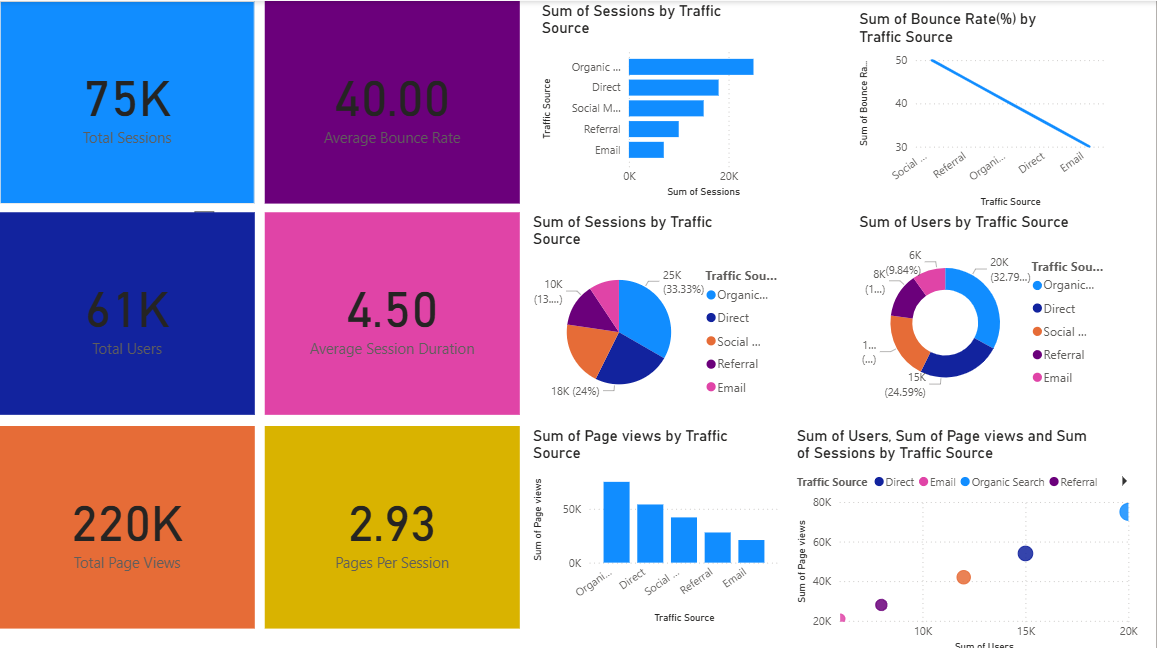

The page's visual inventory and layout, read from the dashboard file:
{"tool":"powerbi","page":{"name":"Page 1","canvas":[1280,720],"ordinal":0},"visuals":[{"type":"card","fields":{"Values":["Sheet1.Total Sessions"]},"box":[9.6,0,279.9,222.3],"z":0},{"type":"card","fields":{"Values":["Sheet1.Total Users"]},"box":[9.6,231.9,279.9,222.3],"z":1000},{"type":"card","fields":{"Values":["Sheet1.Total Page Views"]},"box":[10,466,280,222],"z":2000},{"type":"card","fields":{"Values":["Sheet1.Average Bounce Rate"]},"box":[300,0,280,222],"z":3000},{"type":"card","fields":{"Values":["Sheet1.Average Session Duration"]},"box":[300,232,280,222],"z":4000},{"type":"card","fields":{"Values":["Sheet1.Pages Per Session"]},"box":[300,466,280,222],"z":5000},{"type":"pieChart","fields":{"Category":["Sheet1.Traffic Source"],"Y":["Sum(Sheet1.Sessions)"]},"box":[590,232,280,222],"z":6000},{"type":"clusteredBarChart","fields":{"Category":["Sheet1.Traffic Source"],"Y":["Sum(Sheet1.Sessions)"]},"box":[599.7,0,279.9,220.9],"z":7000},{"type":"columnChart","fields":{"Category":["Sheet1.Traffic Source"],"Y":["Sum(Sheet1.Page views)"]},"box":[590,466,280,222],"z":8000},{"type":"lineChart","fields":{"Category":["Sheet1.Traffic Source"],"Y":["Sum(Sheet1.Bounce Rate(%))"]},"box":[948.2,9.6,279.9,222.3],"z":9000},{"type":"donutChart","fields":{"Category":["Sheet1.Traffic Source"],"Y":["Sum(Sheet1.Users)"]},"box":[948,232,280,222],"z":10000},{"type":"scatterChart","fields":{"X":["Sum(Sheet1.Users)"],"Y":["Sum(Sheet1.Page views)"],"Series":["Sheet1.Traffic Source"],"Size":["Sum(Sheet1.Sessions)"]},"box":[879.6,466.6,384.2,253.9],"z":11000}]}

Visuals, with their boxes in screenshot pixels (x1, y1, x2, y2), scaled from the page's 1280x720 canvas onto the 1157x648 screenshot:
card - Sheet1.Total Sessions: <region>9, 0, 262, 200</region>
card - Sheet1.Total Users: <region>9, 209, 262, 409</region>
card - Sheet1.Total Page Views: <region>9, 419, 262, 619</region>
card - Sheet1.Average Bounce Rate: <region>271, 0, 524, 200</region>
card - Sheet1.Average Session Duration: <region>271, 209, 524, 409</region>
card - Sheet1.Pages Per Session: <region>271, 419, 524, 619</region>
pieChart - Sheet1.Traffic Source x Sum(Sheet1.Sessions): <region>533, 209, 786, 409</region>
clusteredBarChart - Sheet1.Traffic Source x Sum(Sheet1.Sessions): <region>542, 0, 795, 199</region>
columnChart - Sheet1.Traffic Source x Sum(Sheet1.Page views): <region>533, 419, 786, 619</region>
lineChart - Sheet1.Traffic Source x Sum(Sheet1.Bounce Rate(%)): <region>857, 9, 1110, 209</region>
donutChart - Sheet1.Traffic Source x Sum(Sheet1.Users): <region>857, 209, 1110, 409</region>
scatterChart - Sum(Sheet1.Users) x Sum(Sheet1.Page views): <region>795, 420, 1142, 647</region>
